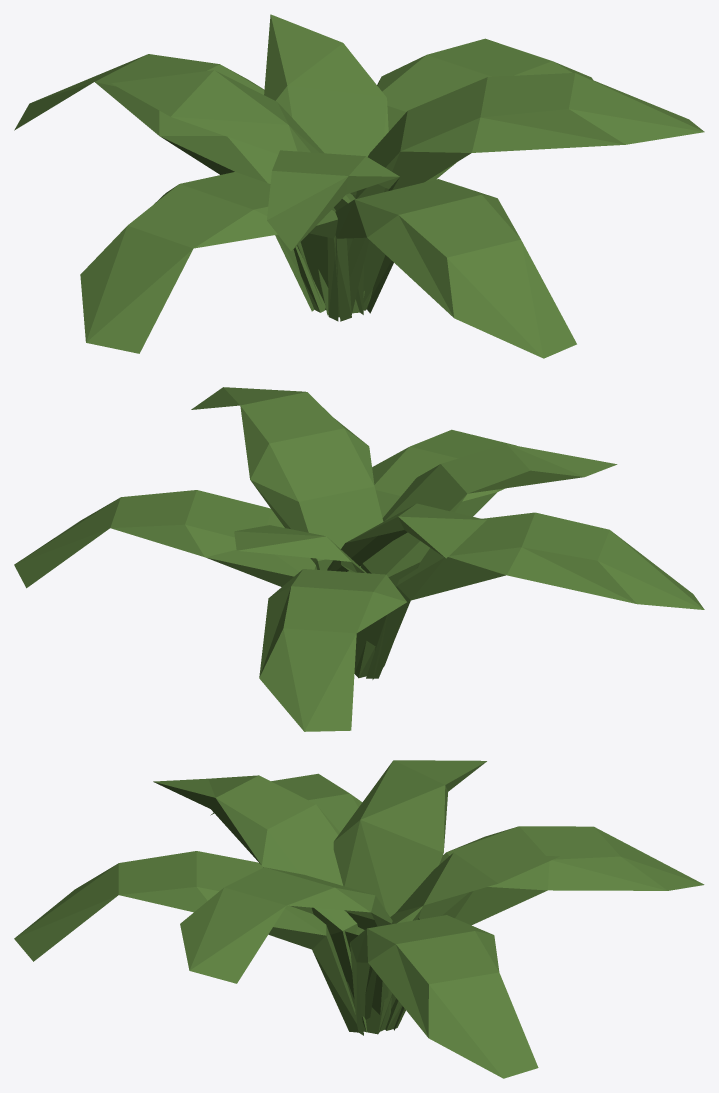
The model's file is Plantita-1.FBX.
The picture shows the model from 3 angles, top to bottom: view 1: azimuth 30°, elevation 25°; view 2: azimuth 150°, elevation 25°; view 3: azimuth 270°, elevation 25°; orthographic projection. The views are drawn at different scales.
Parts seen in each view (by area): view 1: Plantita-1; view 2: Plantita-1; view 3: Plantita-1.
Boxes of the visible parts, left/top/right/bottom form: Plantita-1: left=14, top=14, right=704, bottom=358; Plantita-1: left=14, top=387, right=704, bottom=731; Plantita-1: left=14, top=760, right=704, bottom=1078.
Bounding box in the file's own units: 70.08 × 23.54 × 72.7.
1 material, 1 textured.
